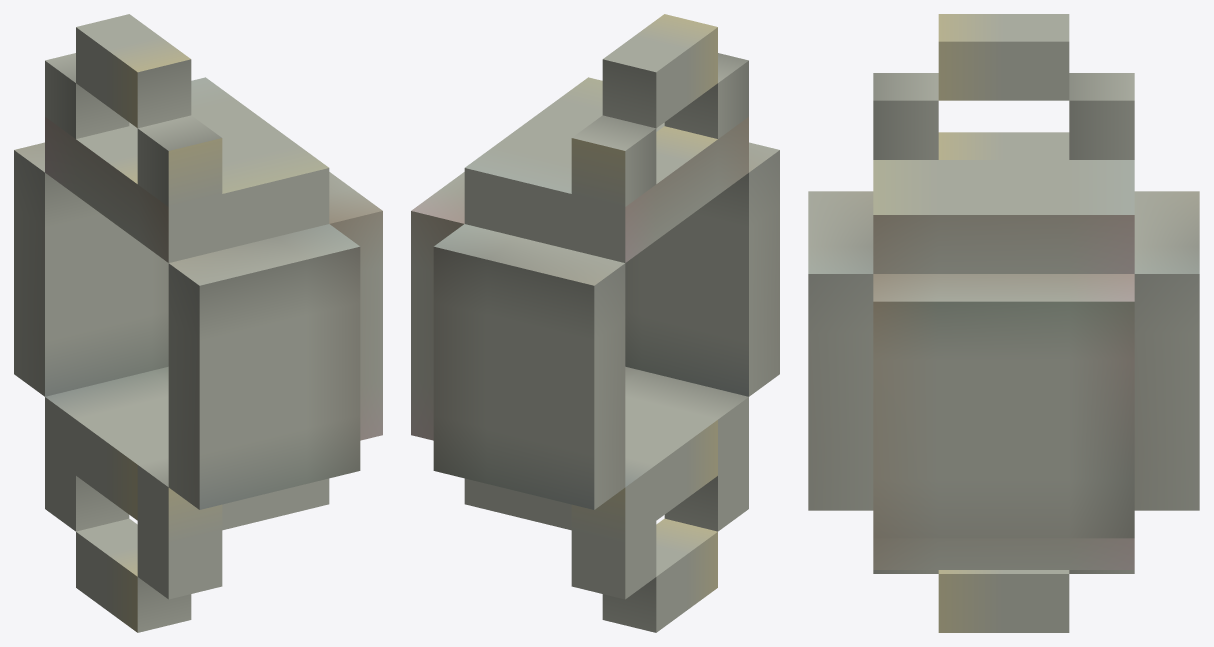
Rendered from Pot_00.fbx.
3 views of the same model, side by side, from view 1: azimuth 30°, elevation 25°; view 2: azimuth 150°, elevation 25°; view 3: azimuth 270°, elevation 25° (orthographic). The views are drawn at different scales.
Visible parts, largest first — view 1: Pot_00; view 2: Pot_00; view 3: Pot_00.
Boxes of the visible parts, x1=… form: Pot_00: x1=14, y1=14, x2=382, y2=632; Pot_00: x1=411, y1=14, x2=779, y2=632; Pot_00: x1=808, y1=14, x2=1199, y2=632.
Bounding box in the file's own units: 20 × 30 × 50.
Materials: 1 (1 with a texture image).
